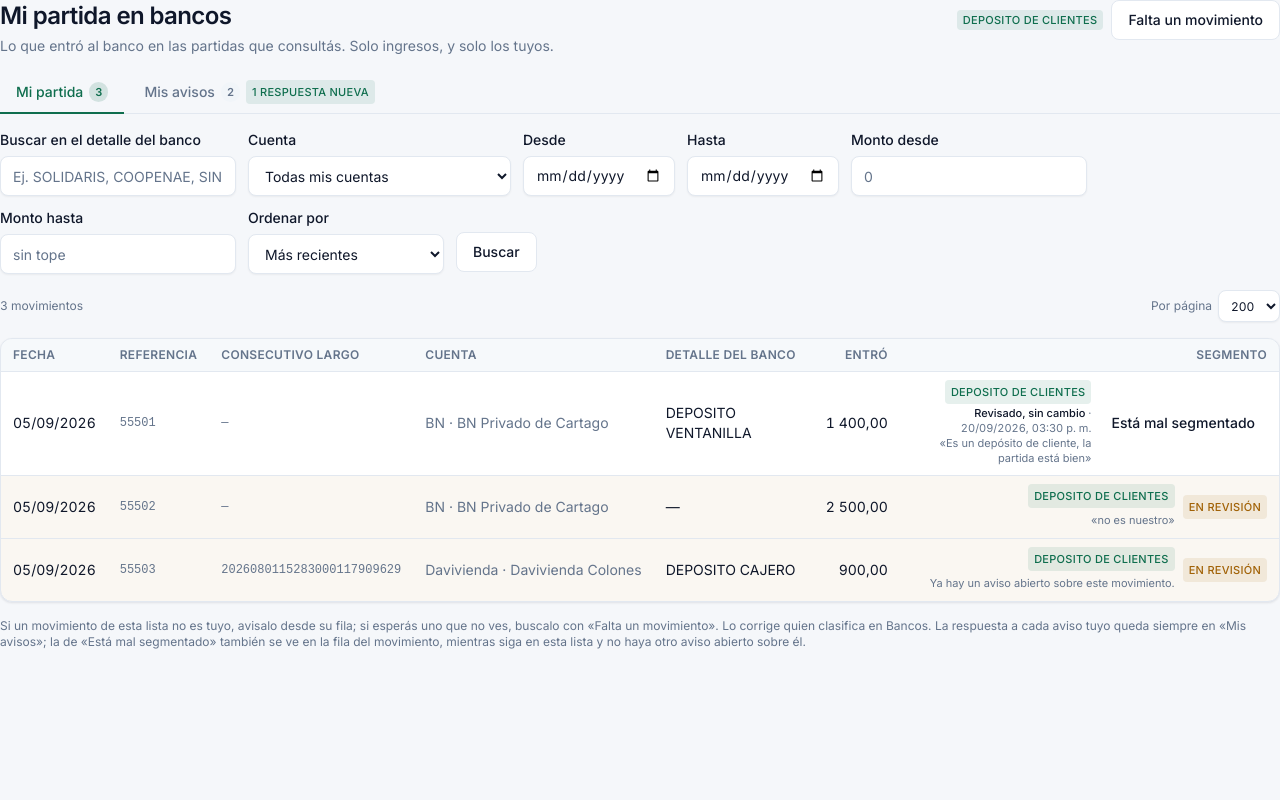
it: MiSegmentoPage › «Falta un movimiento» › el de mi partida se muestra completo: lo tapaba un filtro, no hay nada que avisar
Step 1. Click the button "Falta un movimiento" → (1196, 20), box [1111,0,1279,40]
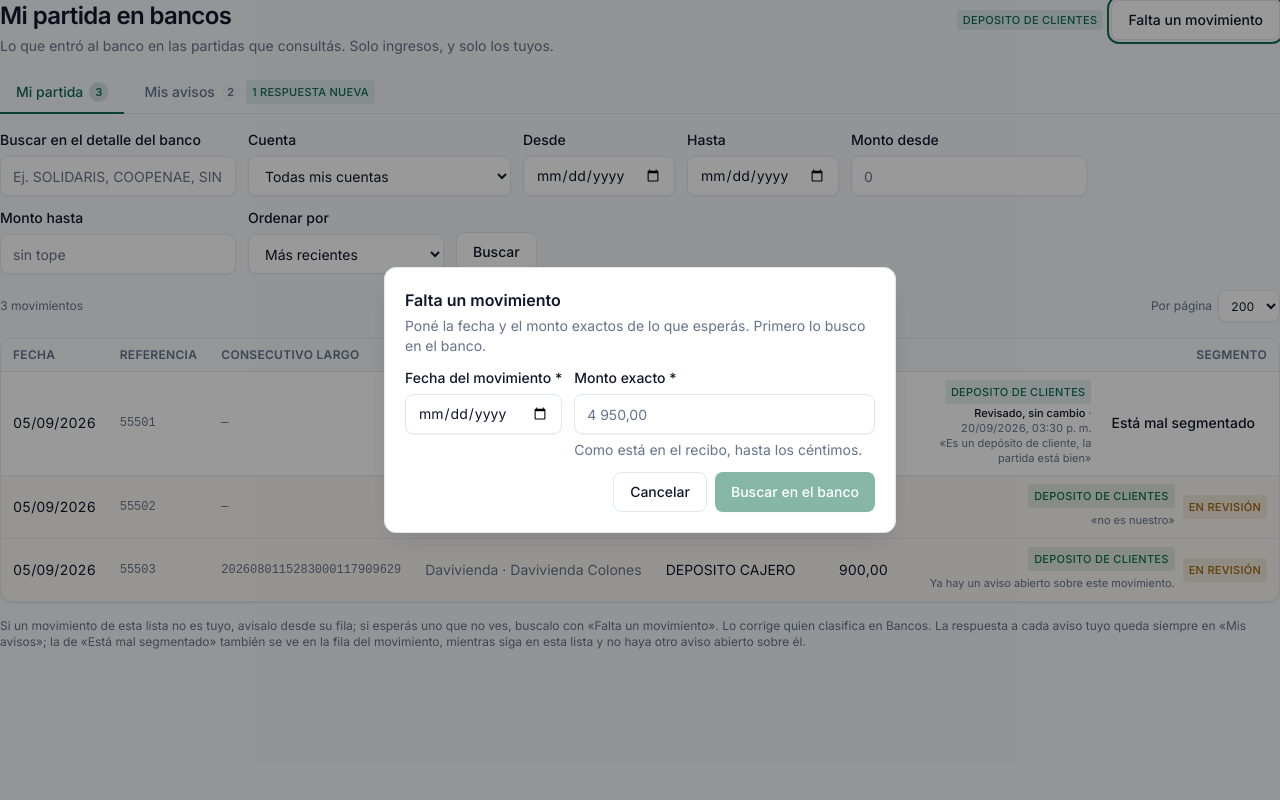
Step 2. Type "2026-09-11" into the date field labelled "Fecha del movimiento *" → (484, 414), box [405,394,562,434]
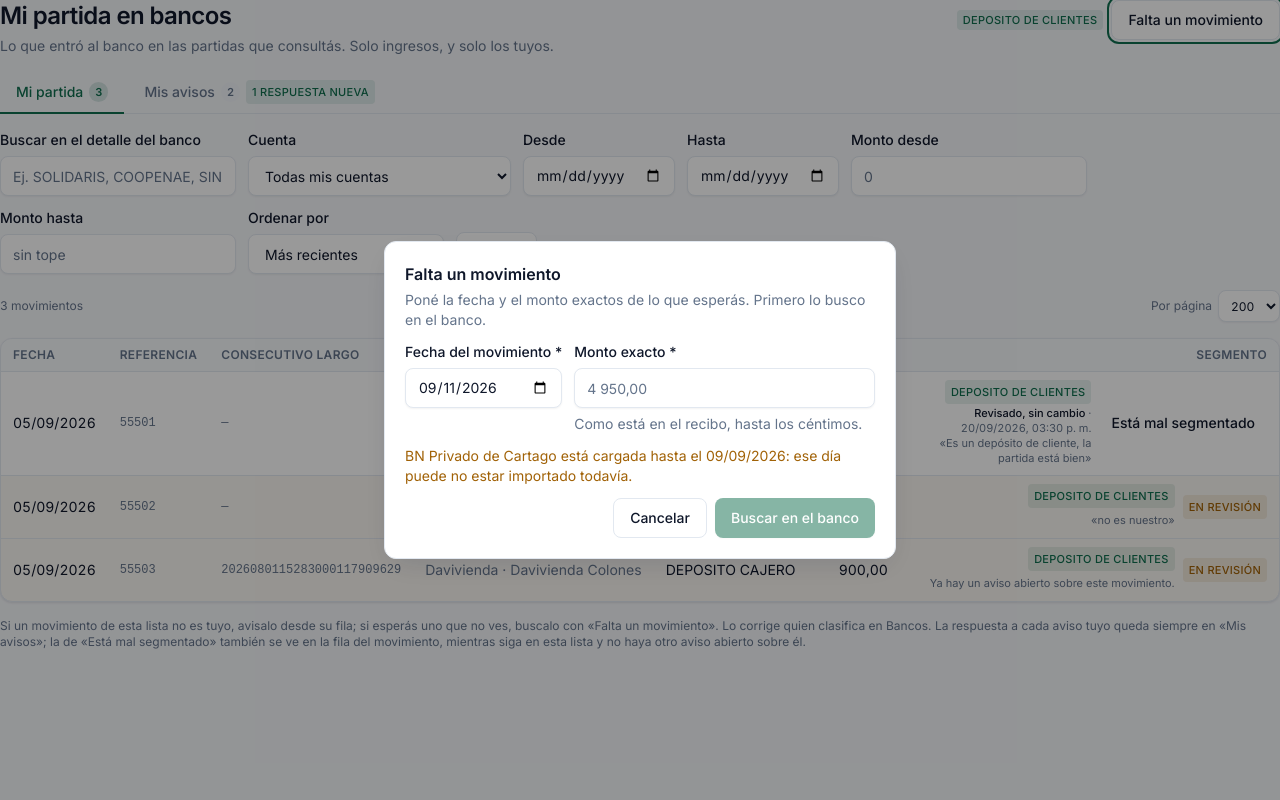
Step 3. Type "15000" into the field labelled "Monto exacto *" → (725, 388), box [574,368,875,408]
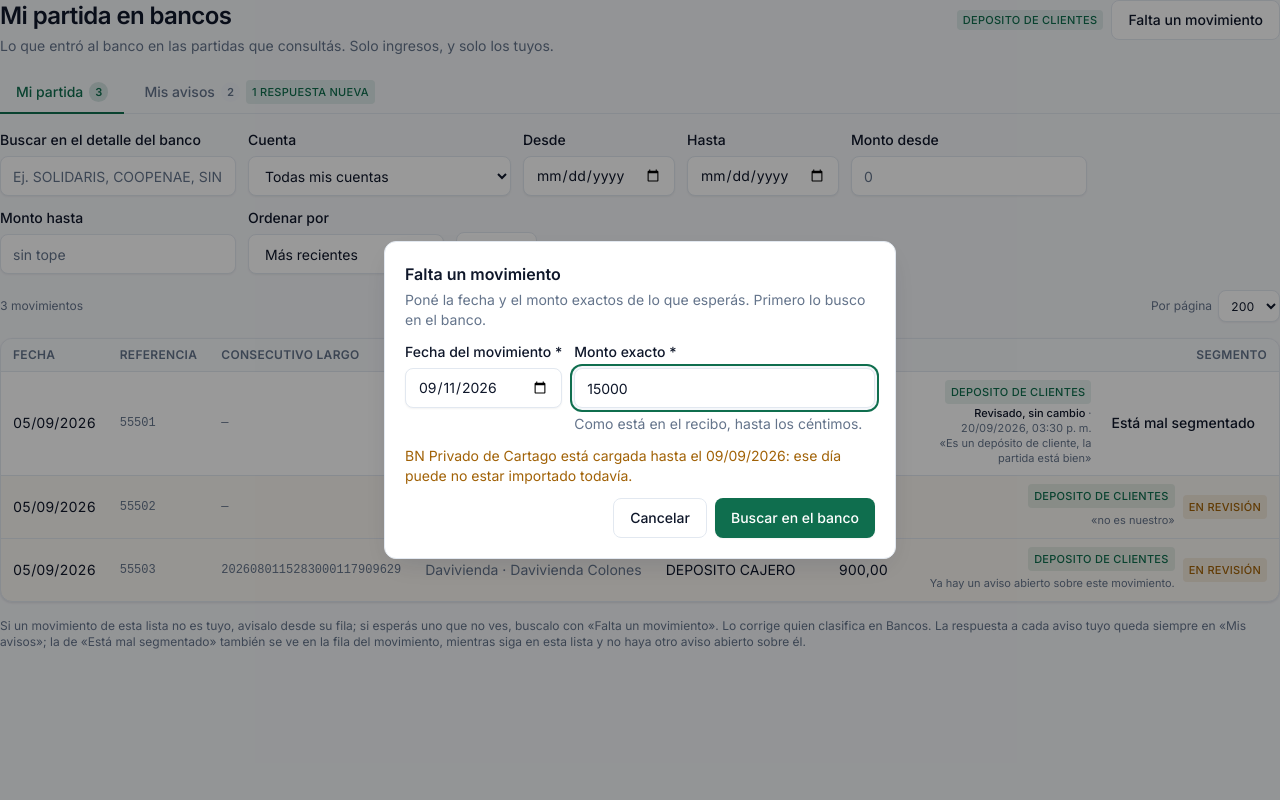
Step 4. Click the button "Buscar en el banco" → (795, 518), box [715,498,875,538]
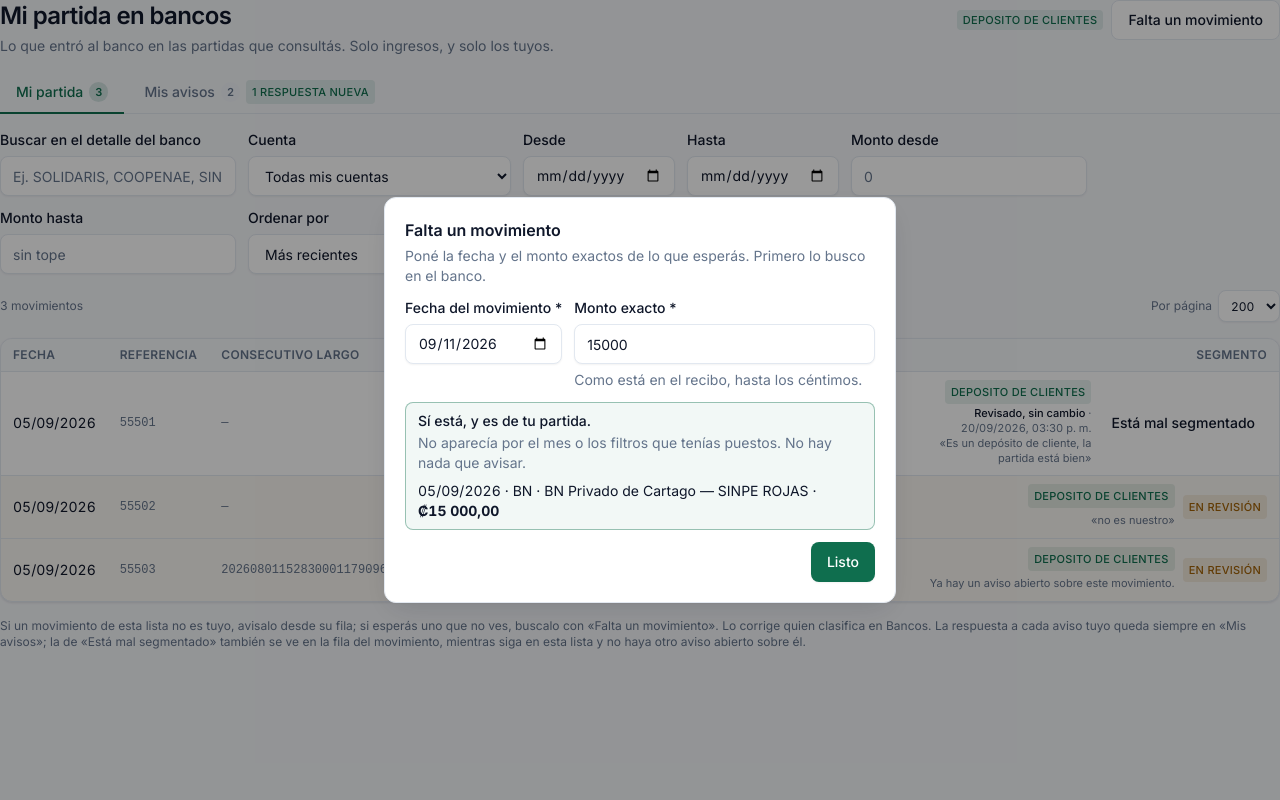
Check: the text "Sí está, y es de tu partida." is shown, box [418,412,591,429]
Check: the list item "SINPE ROJAS" is shown, box [718,482,809,499]
